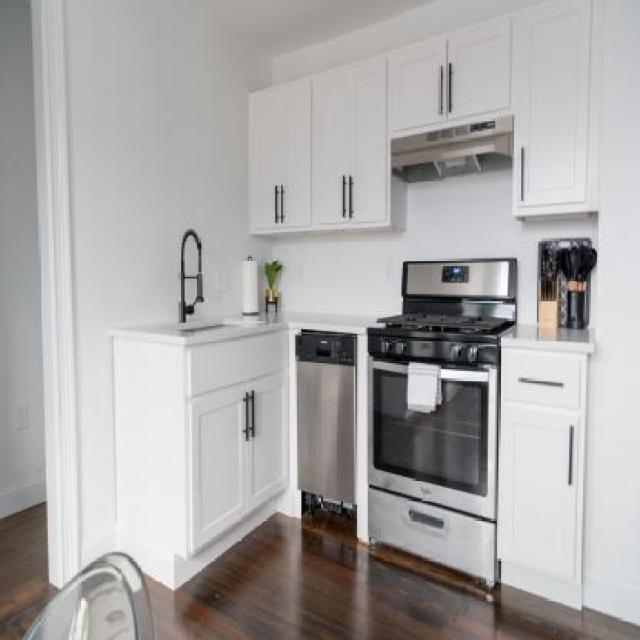Floor: (142, 510, 640, 640), (0, 502, 60, 639)
